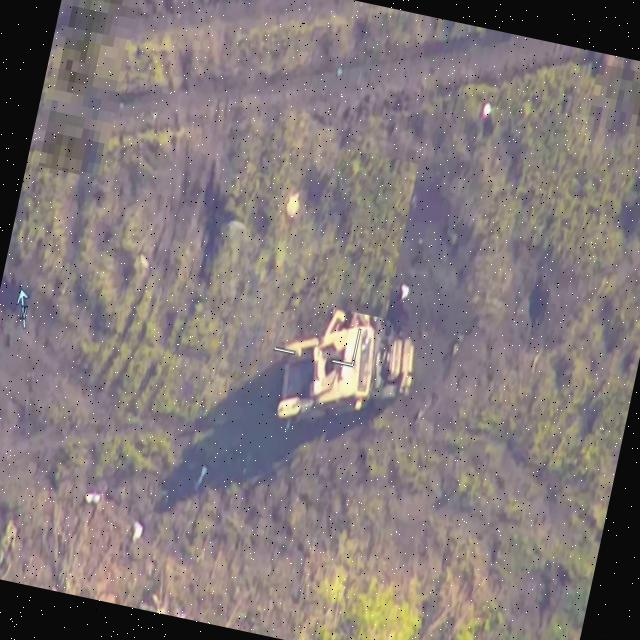Vehicle: (273, 305, 422, 441)
